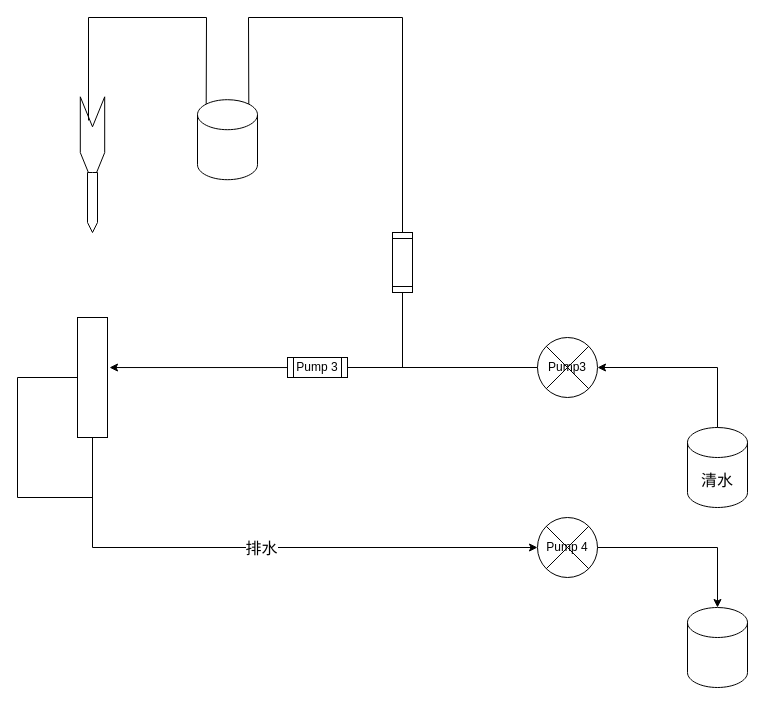
Image size: 765x705. Some labels were removed from this diagram. Each missing label, with the centre of its shape:
Pump1: the point at 402,262
废液杯: the point at 717,647
